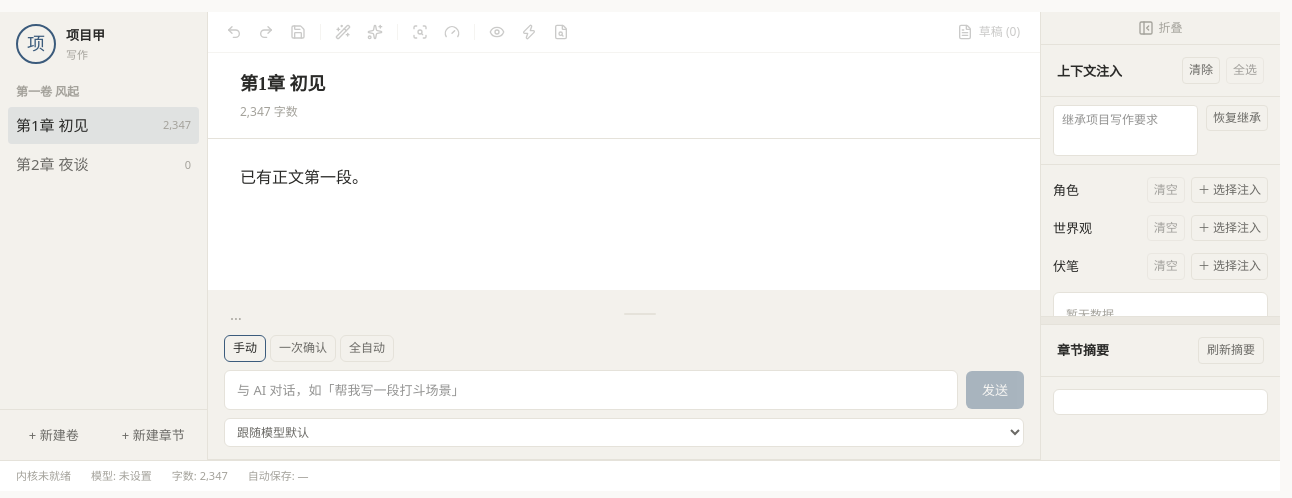
写作页 — 视图切换（#379 F47 §4.2：正文编辑 ↔ AI 执行详情） › 点 view-toggle → detail 视图：ExecutionDetailPanel 渲染（mock 轨迹数据）
// 未执行过管线 → detail 视图空态（exec-detail-empty）
Click the button with test id "view-toggle": (497, 32) x1=483 y1=18 x2=511 y2=46
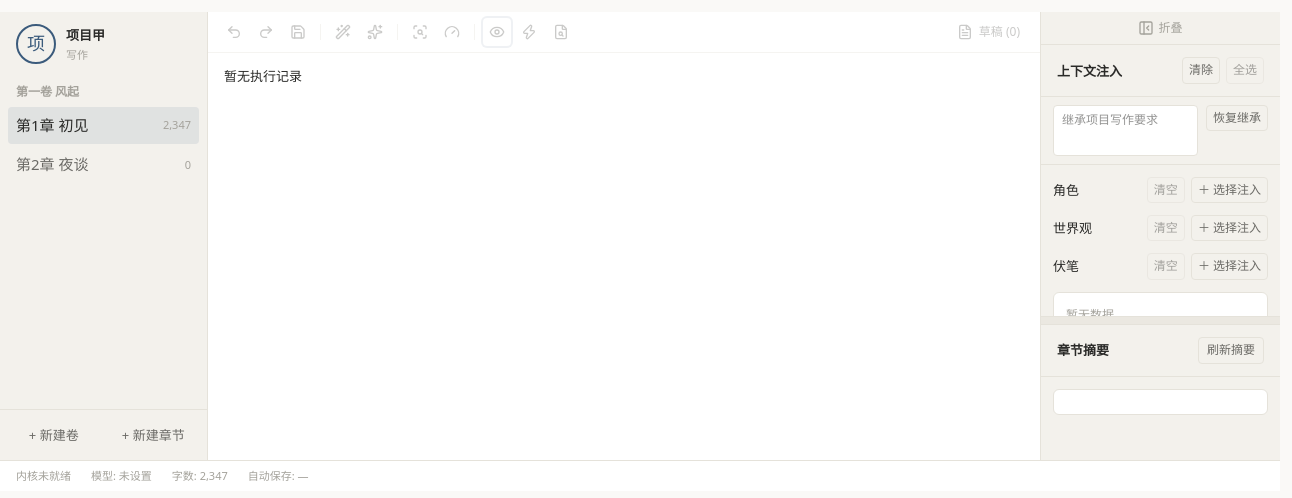
Now the text "暂无执行记录" is shown, box x1=224 y1=67 x2=302 y2=85
// 切回 editor 视图 → ChapterEditor 恢复
Click the button with test id "view-toggle": (497, 32) x1=483 y1=18 x2=511 y2=46
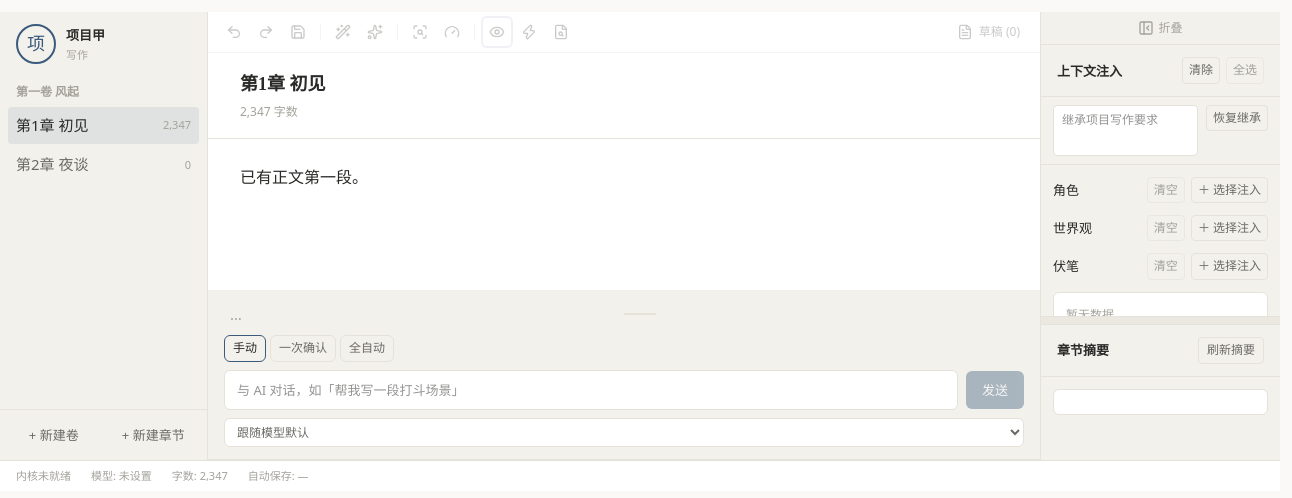
Now the text box with test id "chapter-editor" is shown, box x1=208 y1=139 x2=1040 y2=290
